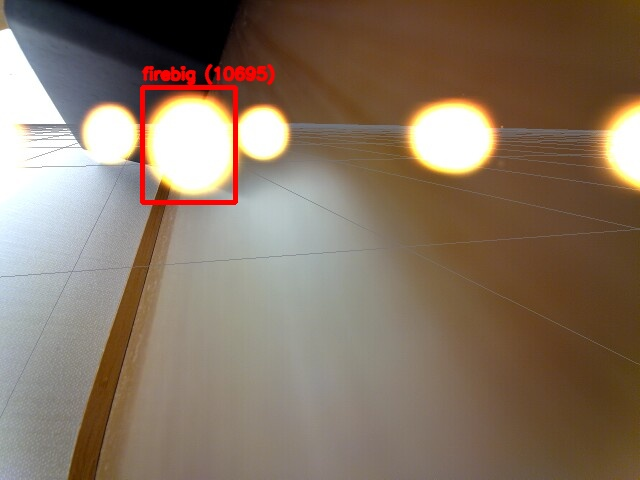firebig: (142, 87, 235, 202)
